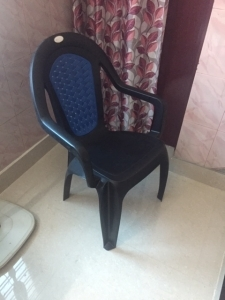chair: (29, 32, 169, 250)
